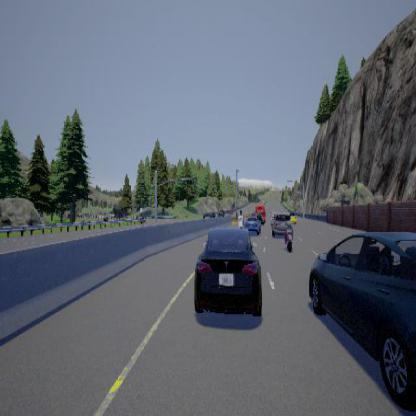motobike: (283, 214, 296, 250)
vehicle: (308, 231, 415, 411), (194, 224, 261, 318), (270, 212, 292, 236), (244, 215, 260, 232)
